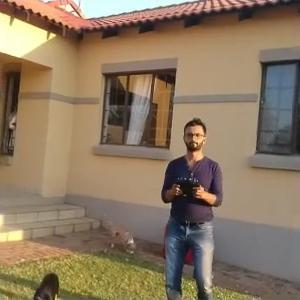follow: (147, 114, 224, 298)
null: (100, 208, 140, 257), (28, 271, 61, 298)
